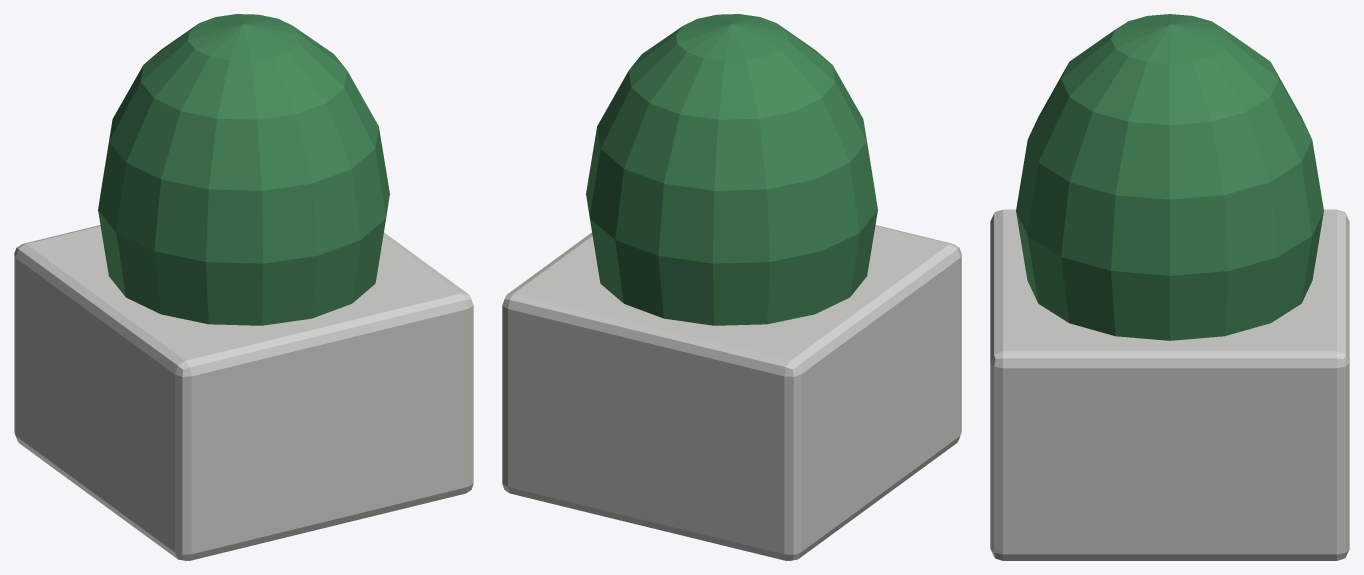
The model's file is Prop_Street_028.glb.
3 renders of one model, left to right at view 1: azimuth 30°, elevation 25°; view 2: azimuth 150°, elevation 25°; view 3: azimuth 270°, elevation 25°, orthographic. The views are drawn at different scales.
Visible parts, largest first — view 1: Prop_Street_028; view 2: Prop_Street_028; view 3: Prop_Street_028.
Part boxes in pixels (<box>): Prop_Street_028: <box>14,14,473,560</box>; Prop_Street_028: <box>502,14,961,560</box>; Prop_Street_028: <box>990,14,1349,560</box>.
Size of the model in its own units: 1.4 by 2 by 1.4.
